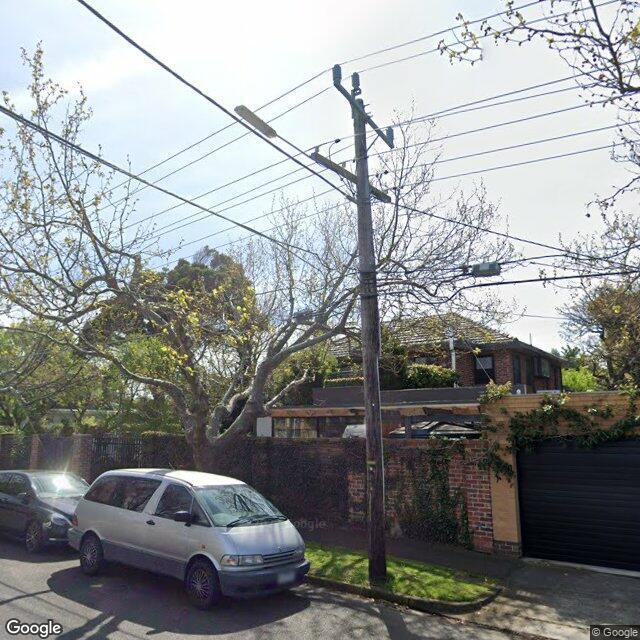HV-transmission: (332, 64, 394, 142)
crossarm: (311, 152, 391, 204), (334, 82, 394, 150)
streetlight: (234, 105, 312, 157)
timber-pole: (352, 98, 387, 587)
